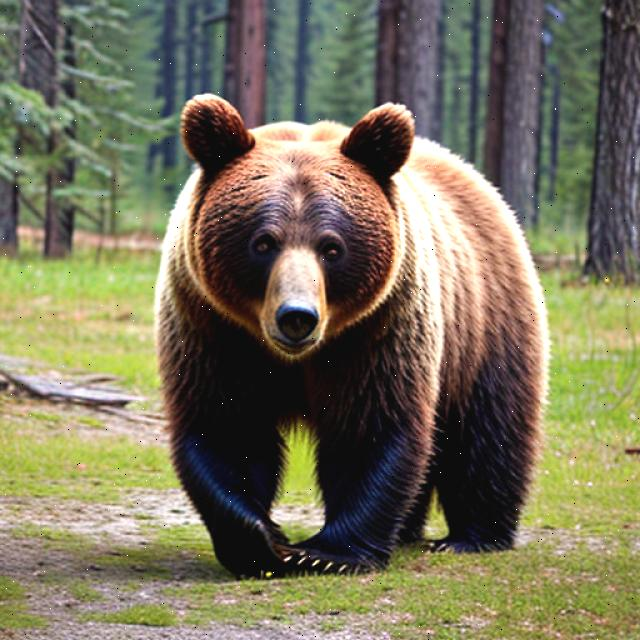bear: (170, 81, 431, 374)
